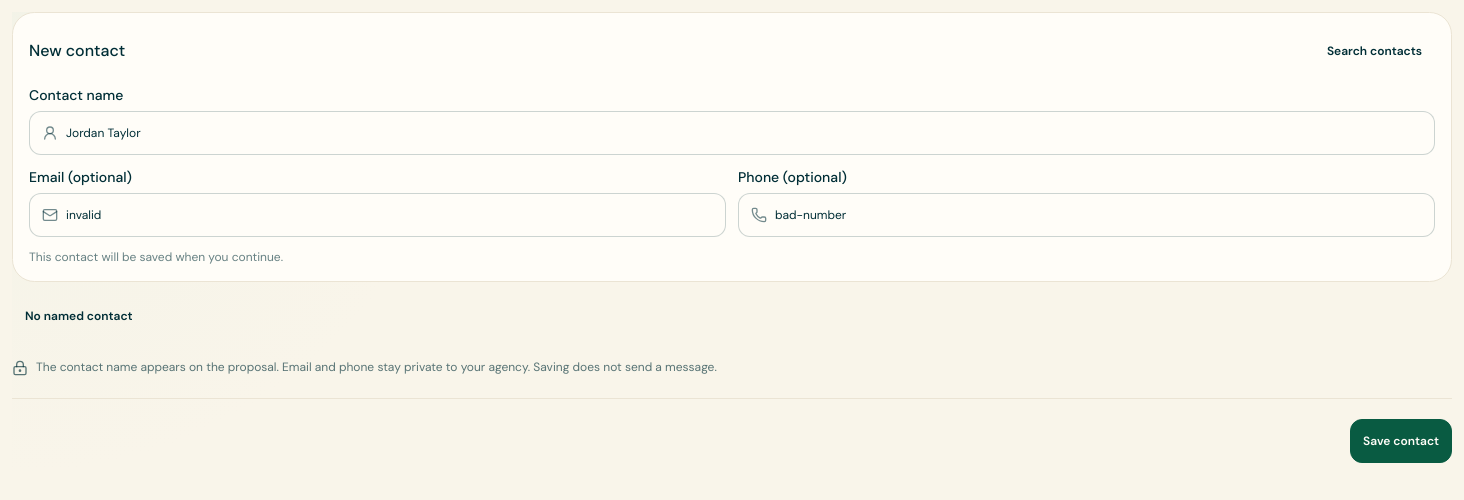
Test case: keeps email and phone validation visible after switching back to contact search
What coordinates should you click on to do the following:
click the button "Search contacts"
I would click on:
 (1374, 51)
Its box is [1314, 29, 1435, 73].
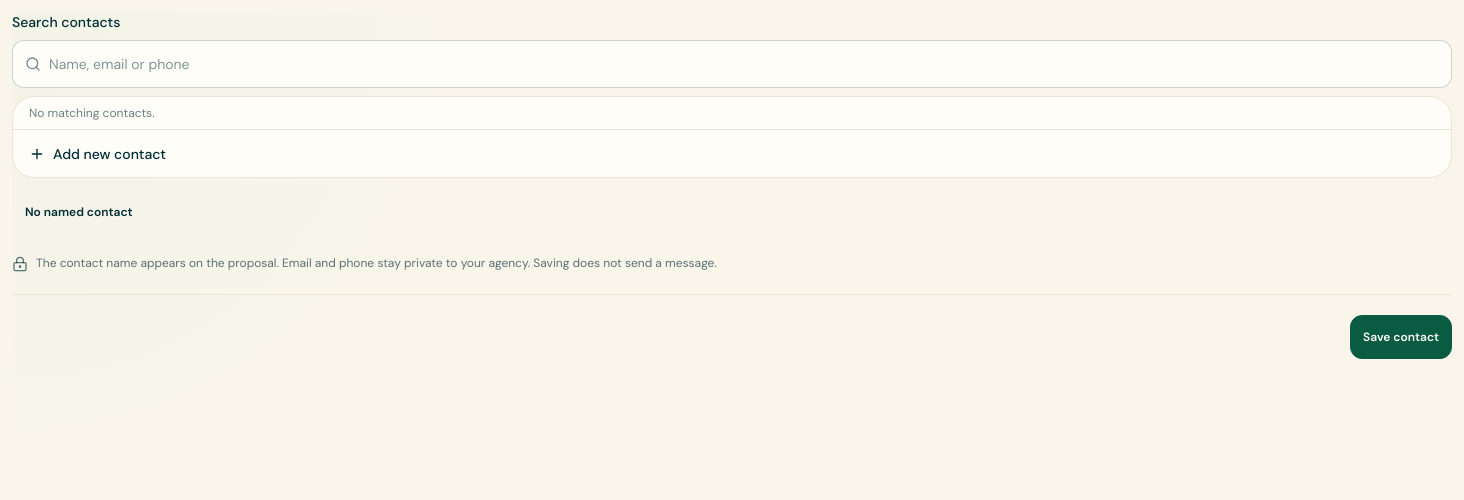
What coordinates should you click on to do the following:
click the button "Save contact"
I would click on:
 (1401, 336)
Its box is [1350, 314, 1452, 358].
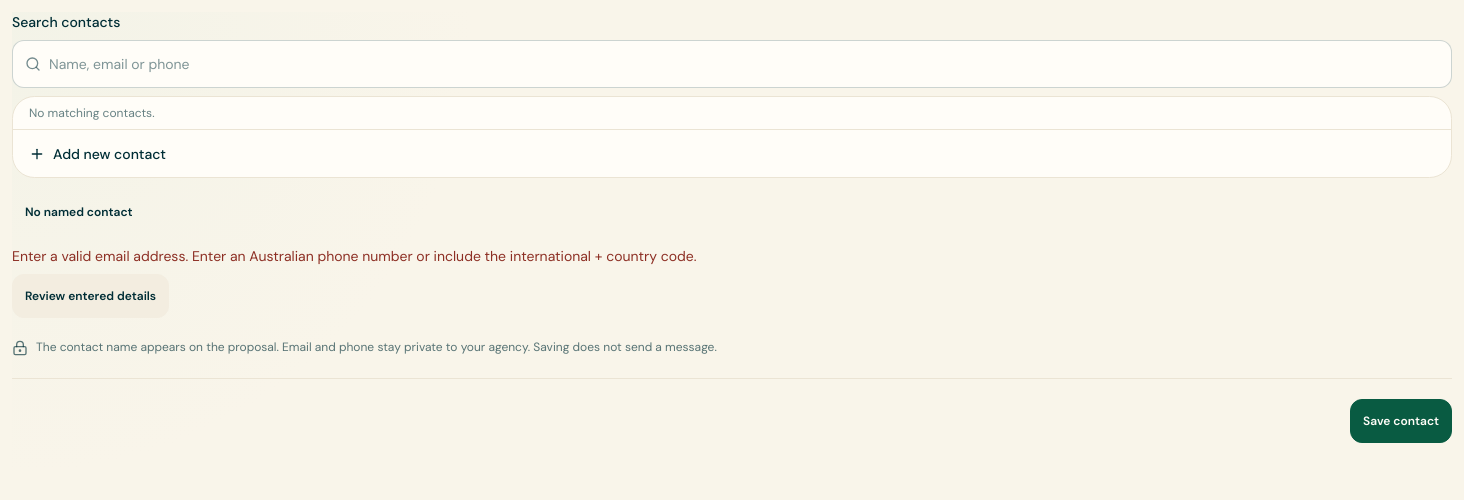
Expected: the 2nd message shows "Enter a valid email address", [12, 247, 696, 265]
Expected: the 2nd message shows "Enter an Australian phone number", [12, 247, 696, 265]
What coordinates should you click on to do the following:
click the button "Review entered details"
I would click on:
 (91, 296)
Its box is [12, 274, 169, 318].
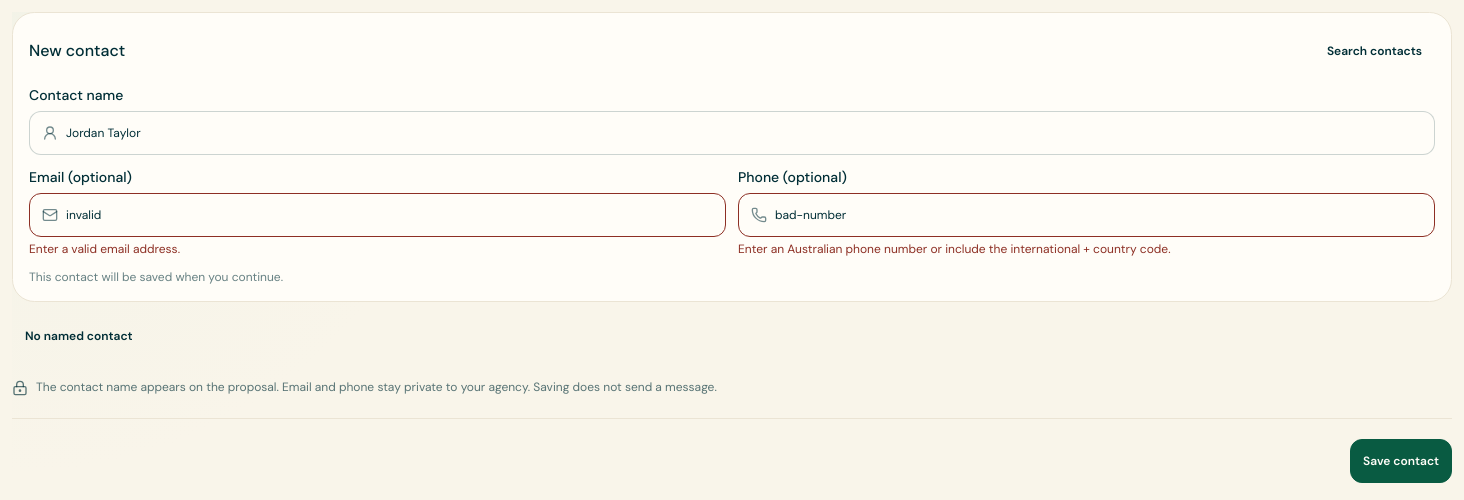
Expected: the field labelled "Email (optional)" holds "invalid", [66, 194, 713, 236]
